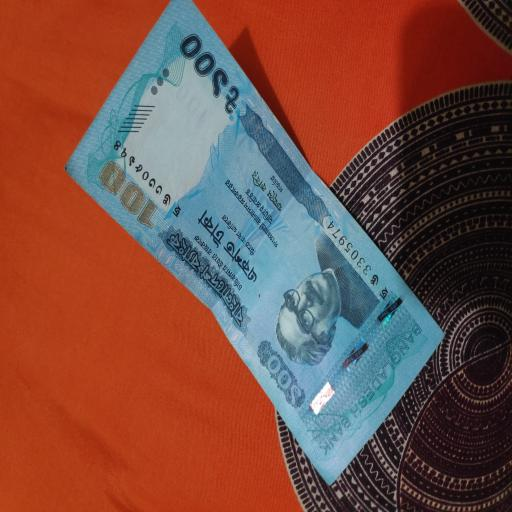100taka: (65, 0, 445, 486)
